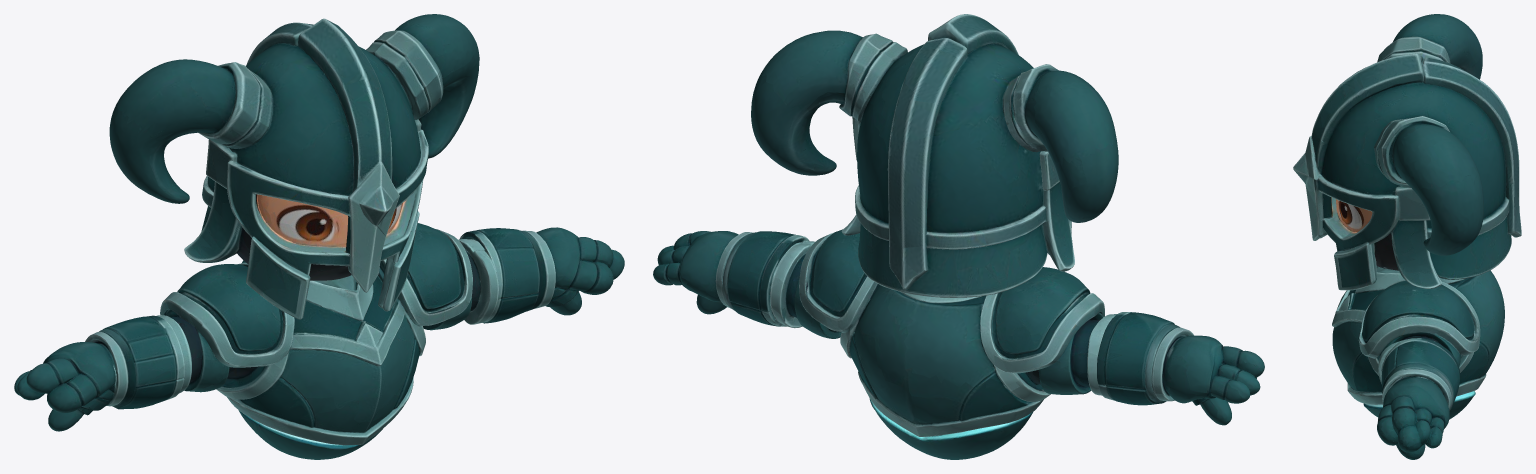
File: helmy.glb
The picture shows the model from 3 angles, left to right: view 1: azimuth 30°, elevation 25°; view 2: azimuth 150°, elevation 25°; view 3: azimuth 270°, elevation 25°; orthographic projection. The views are drawn at different scales.
Size of the model in its own units: 1.89 by 1.3 by 0.7229.
Materials: 1 (1 with a texture image).
